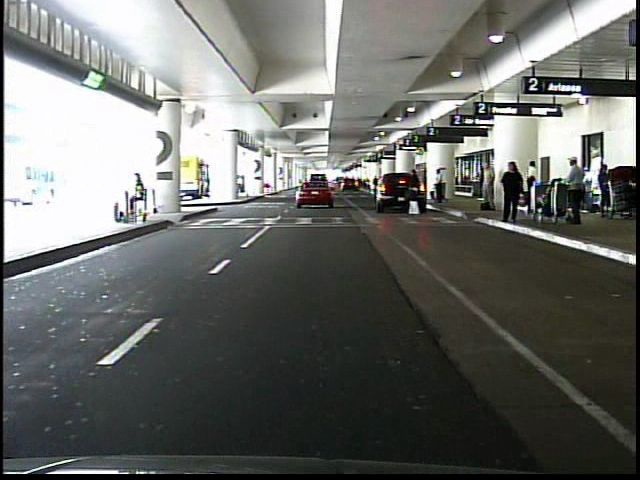person: (564, 156, 584, 234), (501, 159, 523, 224), (124, 171, 147, 222), (598, 165, 613, 219), (578, 167, 592, 213), (523, 160, 537, 205), (410, 170, 423, 216), (433, 167, 445, 205)
